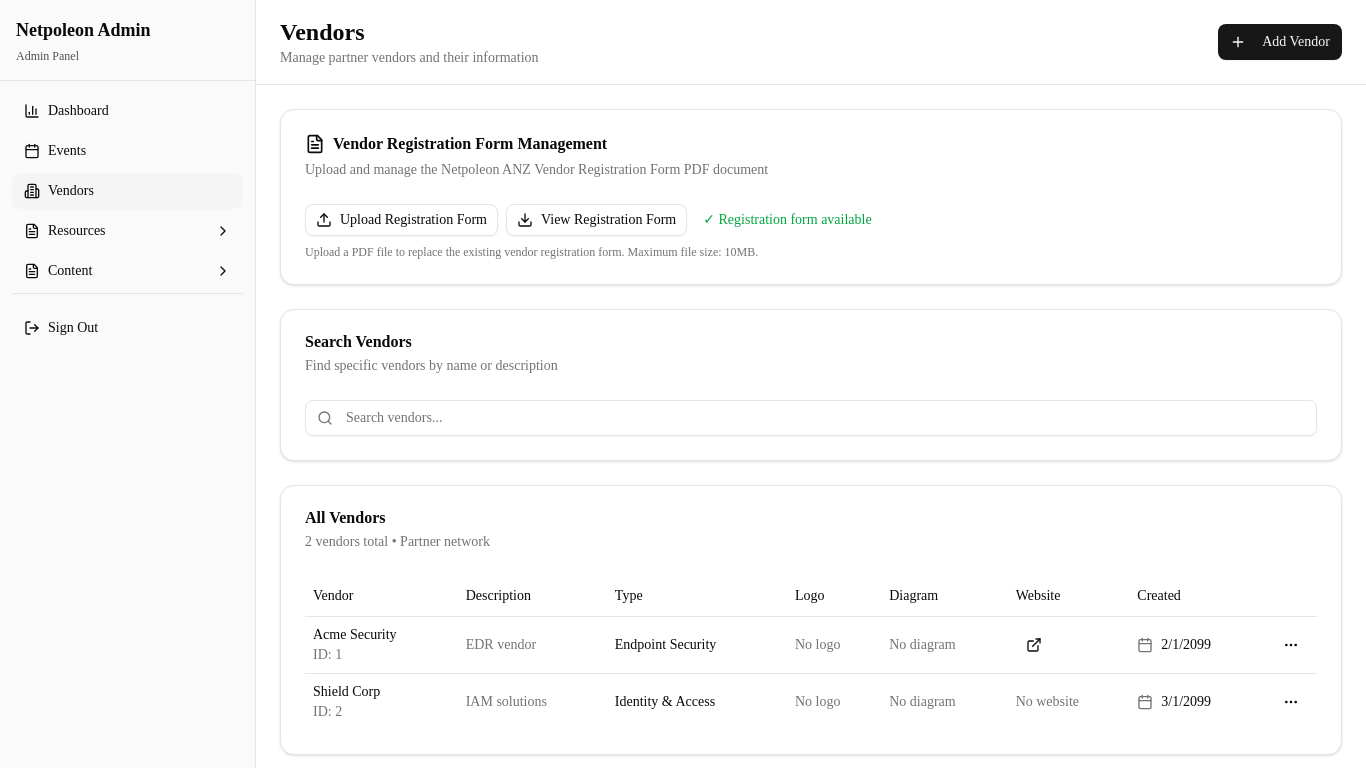
Test: Admin Vendors Page › filters via search
The image size is (1366, 768).
Expected: the text "All Vendors" is shown, [305,509,386,526]
Type "Acme" into the field with placeholder "Search vendors...".
click(811, 418); type("Acme")  # box [305,400,1317,436]
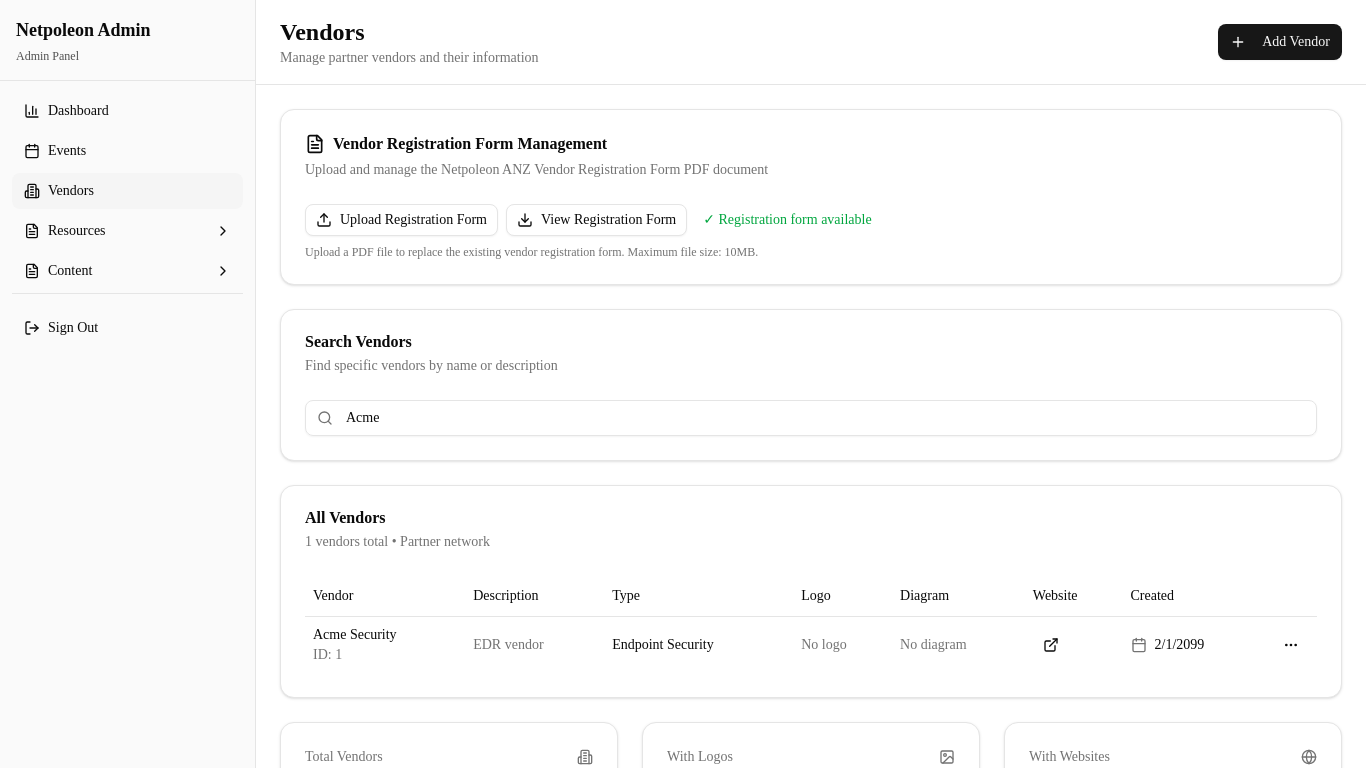
Expected: the text "1 vendors total • Partner network" is shown, [305,534,490,549]
Expected: the text "Shield Corp" is gone
